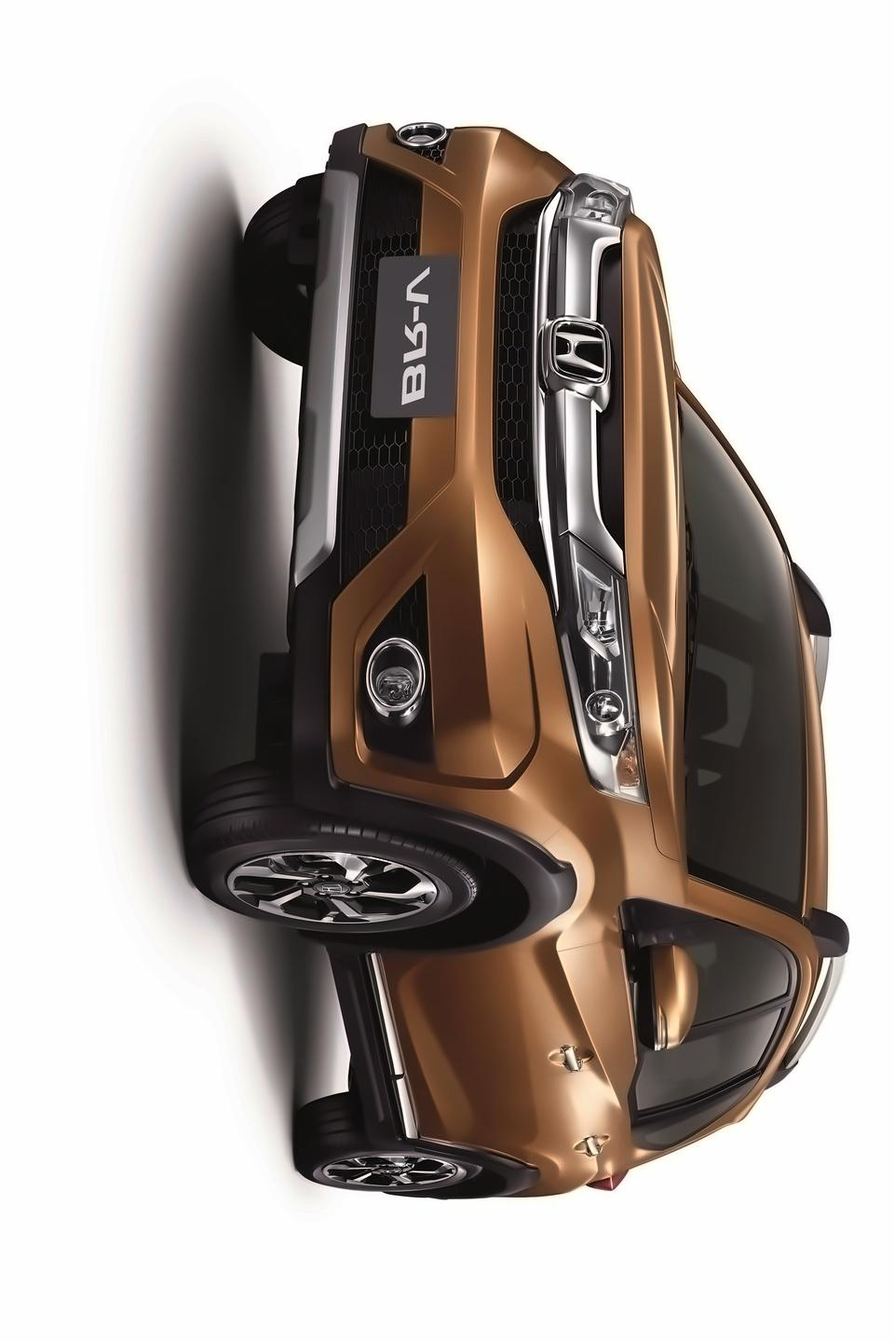Car hood: (606, 217, 705, 863)
Fender - -F-L-: (324, 748, 751, 1000)
Front bumper: (273, 112, 583, 861)
Headlight - -L-: (550, 534, 650, 803)
Headlight - -R-: (559, 161, 633, 240)
Passenger-s door - -F-L-: (319, 890, 838, 1053)
Passenger-s door - -R-L-: (319, 995, 852, 1153)
Side bumper - -L-: (298, 937, 472, 1159)
Side mirror - -L-: (608, 902, 708, 1058)
